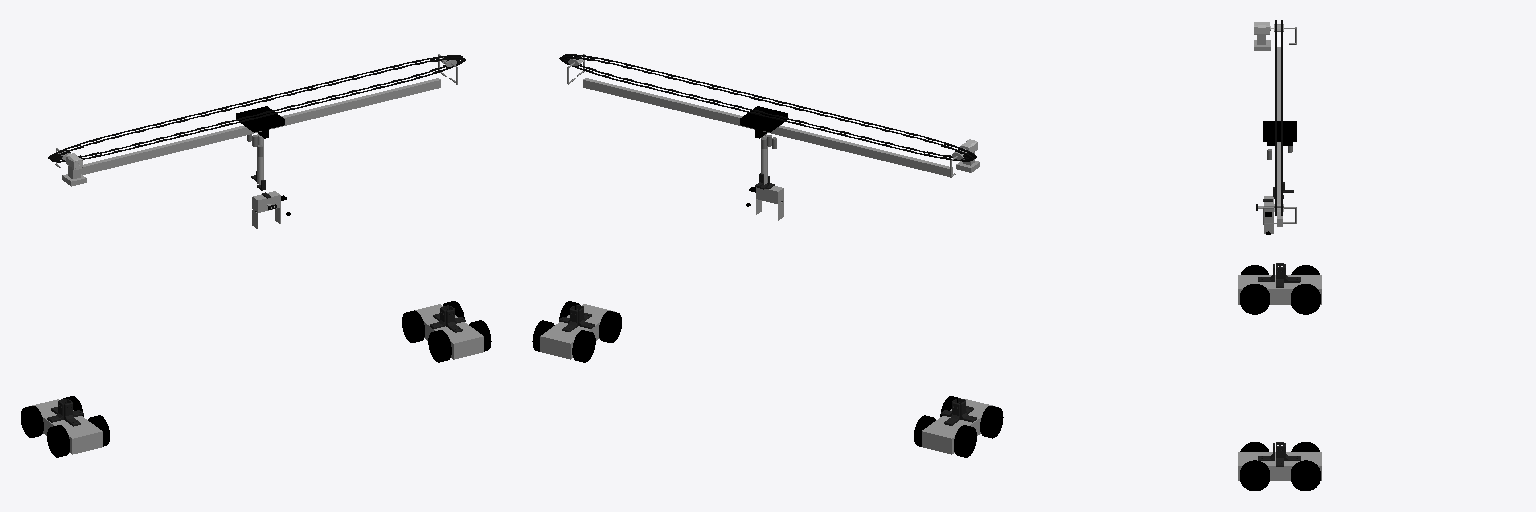
--- Render facts (derived) ---
3 views of the same robot in one strip: view 1: azimuth 30°, elevation 25°; view 2: azimuth 150°, elevation 25°; view 3: azimuth 270°, elevation 25° (orthographic).
Robot: bot — 90 links, 89 joints (1 revolute, 9 continuous, 6 prismatic, 73 fixed); root link Untitled.052; default pose: every joint at zero.
Links seen in each view (by area): view 1: Untitled.052, Untitled.058, Untitled.079, Untitled.004, Untitled.009, Untitled.026, Untitled.017, Untitled.008, Untitled.011, Untitled.007; view 2: Untitled.052, Untitled.079, Untitled.058, Untitled.009, Untitled.004, Untitled.026, Untitled.008, Untitled.011, Untitled.007, Untitled.017; view 3: Untitled.004, Untitled.009, Untitled.015, Untitled.005, Untitled.006, Untitled.013, Untitled.026, Untitled.052.
Link boxes in pixels (<box>): Untitled.052: <box>81,78,440,174</box>; Untitled.058: <box>51,57,465,162</box>; Untitled.079: <box>48,55,462,159</box>; Untitled.004: <box>28,399,102,454</box>; Untitled.009: <box>415,304,483,359</box>; Untitled.026: <box>236,106,284,132</box>; Untitled.017: <box>428,330,451,362</box>; Untitled.008: <box>47,425,69,457</box>; Untitled.011: <box>402,310,424,342</box>; Untitled.007: <box>21,406,43,437</box>; Untitled.052: <box>583,78,952,176</box>; Untitled.079: <box>559,56,973,161</box>; Untitled.058: <box>562,54,976,158</box>; Untitled.009: <box>540,304,614,359</box>; Untitled.004: <box>922,399,995,454</box>; Untitled.026: <box>740,106,787,132</box>; Untitled.008: <box>980,406,1003,438</box>; Untitled.011: <box>572,330,595,362</box>; Untitled.007: <box>954,425,976,457</box>; Untitled.017: <box>599,311,621,342</box>; Untitled.004: <box>1238,275,1321,304</box>; Untitled.009: <box>1238,452,1321,480</box>; Untitled.015: <box>1240,460,1269,490</box>; Untitled.005: <box>1240,284,1269,314</box>; Untitled.006: <box>1291,284,1320,314</box>; Untitled.013: <box>1291,460,1320,490</box>; Untitled.026: <box>1263,121,1296,141</box>; Untitled.052: <box>1277,47,1282,226</box>.
Bounding box of the posed robot: 2.81 × 0.5 × 1.84 m (x, y, z).
Meshes: 22 distinct files referenced, 28 mesh visuals loaded (12 binary STL); not drawn: 10 (reference not matched to a file when rendering).

robot.urdf — bot:
<?xml version="1.0"?>
<!-- created with Phobos 1.0.1 "Capricious Choutengan" -->
  <robot name="bot">

    <link name="Untitled">
      <inertial>
        <origin xyz="0 0 0" rpy="0 0 0"/>
        <mass value="0.001"/>
        <inertia ixx="0.001" ixy="0" ixz="0" iyy="0.001" iyz="0" izz="0.001"/>
      </inertial>
    </link>

    <link name="Untitled.001">
      <inertial>
        <origin xyz="0 0 0" rpy="0 0 0"/>
        <mass value="0.001"/>
        <inertia ixx="0.001" ixy="0" ixz="0" iyy="0.001" iyz="0" izz="0.001"/>
      </inertial>
    </link>

    <link name="Untitled.002">
      <inertial>
        <origin xyz="0 0 0" rpy="0 0 0"/>
        <mass value="0.001"/>
        <inertia ixx="0.001" ixy="0" ixz="0" iyy="0.001" iyz="0" izz="0.001"/>
      </inertial>
    </link>

    <link name="Untitled.003">
      <inertial>
        <origin xyz="0 0 0" rpy="0 0 0"/>
        <mass value="0.001"/>
        <inertia ixx="0.001" ixy="0" ixz="0" iyy="0.001" iyz="0" izz="0.001"/>
      </inertial>
    </link>

    <link name="Untitled.004">
      <inertial>
        <origin xyz="0 0 0" rpy="0 0 0"/>
        <mass value="8.0"/>
        <inertia ixx="0.00043" ixy="0" ixz="0" iyy="0.00145" iyz="0" izz="0.06667"/>
      </inertial>
      <visual name="base link.000">
        <origin xyz="0 0 0" rpy="0 0 0"/>
        <geometry>
          <box size="0.5 0.2 0.1"/>
        </geometry>
        <material name="Material.005"/>
      </visual>
      <collision name="base link.000">
        <origin xyz="0 0 0" rpy="0 0 0"/>
        <geometry>
          <box size="0.4 0.2 0.1"/>
        </geometry>
      </collision>
    </link>

    <link name="Untitled.005">
      <inertial>
        <origin xyz="0 0 0" rpy="0 0 0"/>
        <mass value="0.25"/>
        <inertia ixx="7e-05" ixy="0" ixz="0" iyy="0.00013" iyz="0" izz="0.00056"/>
      </inertial>
      <visual name="bl Link.000">
        <origin xyz="-0.0022 0 0" rpy="-3.14159 0 0"/>
        <geometry>
          <mesh filename="Cylinder.004.stl" scale="1.0 1.0 1.0"/>
        </geometry>
        <material name="Material.004"/>
      </visual>
      <collision name="bl Link.000">
        <origin xyz="-0.0022 0 0" rpy="-3.14159 0 0"/>
        <geometry>
          <cylinder radius="0.09" length="0.05"/>
        </geometry>
      </collision>
    </link>

    <link name="Untitled.006">
      <inertial>
        <origin xyz="0 0 0" rpy="0 0 0"/>
        <mass value="0.25"/>
        <inertia ixx="7e-05" ixy="0" ixz="0" iyy="0.00013" iyz="0" izz="0.00056"/>
      </inertial>
      <visual name="bl Link.002.000">
        <origin xyz="-0.0022 0 0" rpy="-3.14159 0 0"/>
        <geometry>
          <cylinder radius="0.09" length="0.05"/>
        </geometry>
        <material name="Material.001"/>
      </visual>
      <collision name="bl Link.002.000">
        <origin xyz="-0.0022 0 0" rpy="-3.14159 0 0"/>
        <geometry>
          <cylinder radius="0.09" length="0.05"/>
        </geometry>
      </collision>
    </link>

    <link name="Untitled.007">
      <inertial>
        <origin xyz="0 0 0" rpy="0 0 0"/>
        <mass value="0.25"/>
        <inertia ixx="7e-05" ixy="0" ixz="0" iyy="0.00013" iyz="0" izz="0.00056"/>
      </inertial>
      <visual name="bl Link.003.000">
        <origin xyz="-0.0022 0 0" rpy="0 0 0"/>
        <geometry>
          <cylinder radius="0.09" length="0.05"/>
        </geometry>
        <material name="Material.002"/>
      </visual>
      <collision name="bl Link.003.000">
        <origin xyz="-0.0022 0 0" rpy="0 0 0"/>
        <geometry>
          <cylinder radius="0.09" length="0.05"/>
        </geometry>
      </collision>
    </link>

    <link name="Untitled.008">
      <inertial>
        <origin xyz="0 0 0" rpy="0 0 0"/>
        <mass value="0.25"/>
        <inertia ixx="7e-05" ixy="0" ixz="0" iyy="0.00013" iyz="0" izz="0.00056"/>
      </inertial>
      <visual name="bl Link.001.000">
        <origin xyz="-0.0022 0 0" rpy="0 0 0"/>
        <geometry>
          <cylinder radius="0.09" length="0.05"/>
        </geometry>
        <material name="Material.003"/>
      </visual>
      <collision name="bl Link.001.000">
        <origin xyz="-0.0022 0 0" rpy="0 0 0"/>
        <geometry>
          <cylinder radius="0.09" length="0.05"/>
        </geometry>
      </collision>
    </link>

    <link name="Untitled.009">
      <inertial>
        <origin xyz="0 0 0" rpy="0 0 0"/>
        <mass value="8.0"/>
        <inertia ixx="0.00043" ixy="0" ixz="0" iyy="0.00145" iyz="0" izz="0.06667"/>
      </inertial>
      <visual name="base link.001">
        <origin xyz="0 0 0" rpy="0 0 0"/>
        <geometry>
          <box size="0.5 0.2 0.1"/>
        </geometry>
        <material name="Material.005"/>
      </visual>
      <collision name="base link.000">
        <origin xyz="0 0 0" rpy="0 0 0"/>
        <geometry>
          <box size="0.4 0.2 0.1"/>
        </geometry>
      </collision>
    </link>

    <link name="Untitled.010">
      <inertial>
        <origin xyz="0 0 0" rpy="0 0 0"/>
        <mass value="0.001"/>
        <inertia ixx="0.001" ixy="0" ixz="0" iyy="0.001" iyz="0" izz="0.001"/>
      </inertial>
    </link>

    <link name="Untitled.011">
      <inertial>
        <origin xyz="0 0 0" rpy="0 0 0"/>
        <mass value="0.25"/>
        <inertia ixx="7e-05" ixy="0" ixz="0" iyy="0.00013" iyz="0" izz="0.00056"/>
      </inertial>
      <visual name="bl Link.003.001">
        <origin xyz="-0.0022 0 0" rpy="0 0 0"/>
        <geometry>
          <cylinder radius="0.09" length="0.05"/>
        </geometry>
        <material name="Material.002"/>
      </visual>
      <collision name="bl Link.003.000">
        <origin xyz="-0.0022 0 0" rpy="0 0 0"/>
        <geometry>
          <cylinder radius="0.09" length="0.05"/>
        </geometry>
      </collision>
    </link>

    <link name="Untitled.012">
      <inertial>
        <origin xyz="0 0 0" rpy="0 0 0"/>
        <mass value="0.001"/>
        <inertia ixx="0.001" ixy="0" ixz="0" iyy="0.001" iyz="0" izz="0.001"/>
      </inertial>
    </link>

    <link name="Untitled.013">
      <inertial>
        <origin xyz="0 0 0" rpy="0 0 0"/>
        <mass value="0.25"/>
        <inertia ixx="7e-05" ixy="0" ixz="0" iyy="0.00013" iyz="0" izz="0.00056"/>
      </inertial>
      <visual name="bl Link.002.001">
        <origin xyz="-0.0022 0 0" rpy="-3.14159 0 0"/>
        <geometry>
          <cylinder radius="0.09" length="0.05"/>
        </geometry>
        <material name="Material.001"/>
      </visual>
      <collision name="bl Link.002.000">
        <origin xyz="-0.0022 0 0" rpy="-3.14159 0 0"/>
        <geometry>
          <cylinder radius="0.09" length="0.05"/>
        </geometry>
      </collision>
    </link>

    <link name="Untitled.014">
      <inertial>
        <origin xyz="0 0 0" rpy="0 0 0"/>
        <mass value="0.001"/>
        <inertia ixx="0.001" ixy="0" ixz="0" iyy="0.001" iyz="0" izz="0.001"/>
      </inertial>
    </link>

    <link name="Untitled.015">
      <inertial>
        <origin xyz="0 0 0" rpy="0 0 0"/>
        <mass value="0.25"/>
        <inertia ixx="7e-05" ixy="0" ixz="0" iyy="0.00013" iyz="0" izz="0.00056"/>
      </inertial>
      <visual name="bl Link.001">
        <origin xyz="-0.0022 0 0" rpy="-3.14159 0 0"/>
        <geometry>
          <cylinder radius="0.09" length="0.05"/>
        </geometry>
        <material name="Material.004"/>
      </visual>
      <collision name="bl Link.000">
        <origin xyz="-0.0022 0 0" rpy="-3.14159 0 0"/>
        <geometry>
          <cylinder radius="0.09" length="0.05"/>
        </geometry>
      </collision>
    </link>

    <link name="Untitled.016">
      <inertial>
        <origin xyz="0 0 0" rpy="0 0 0"/>
        <mass value="0.001"/>
        <inertia ixx="0.001" ixy="0" ixz="0" iyy="0.001" iyz="0" izz="0.001"/>
      </inertial>
    </link>

    <link name="Untitled.017">
      <inertial>
        <origin xyz="0 0 0" rpy="0 0 0"/>
        <mass value="0.25"/>
        <inertia ixx="7e-05" ixy="0" ixz="0" iyy="0.00013" iyz="0" izz="0.00056"/>
      </inertial>
      <visual name="bl Link.001.001">
        <origin xyz="-0.0022 0 0" rpy="0 0 0"/>
        <geometry>
          <cylinder radius="0.09" length="0.05"/>
        </geometry>
        <material name="Material.003"/>
      </visual>
      <collision name="bl Link.001.000">
        <origin xyz="-0.0022 0 0" rpy="0 0 0"/>
        <geometry>
          <cylinder radius="0.09" length="0.05"/>
        </geometry>
      </collision>
    </link>

    <link name="Untitled.018">
      <inertial>
        <origin xyz="0 0 0" rpy="0 0 0"/>
        <mass value="0.02"/>
        <inertia ixx="2e-05" ixy="0" ixz="0" iyy="2e-05" iyz="0" izz="2e-05"/>
      </inertial>
      <visual name="base link.002">
        <origin xyz="0 0 0" rpy="0 0 0"/>
        <geometry>
          <mesh filename="base link.stl" scale="0.74892 0.75 0.33333"/>
        </geometry>
        <material name="Material.035"/>
      </visual>
      <collision name="base link.002.000">
        <origin xyz="0 0 0" rpy="0 0 0"/>
        <geometry>
          <mesh filename="base link.001.stl" scale="1.5043 1.5 1.0"/>
        </geometry>
      </collision>
    </link>

    <link name="Untitled.019">
      <inertial>
        <origin xyz="0 0 0" rpy="0 0 0"/>
        <mass value="0.01"/>
        <inertia ixx="2e-05" ixy="0" ixz="0" iyy="2e-05" iyz="0" izz="2e-05"/>
      </inertial>
      <visual name="inner Link.003">
        <origin xyz="0 0 0" rpy="0 0 0"/>
        <geometry>
          <mesh filename="inner Link.006.stl" scale="0.59176 0.57692 0.33333"/>
        </geometry>
        <material name="Material.036"/>
      </visual>
      <collision name="inner Link.003.000">
        <origin xyz="0 0 0" rpy="0 0 0"/>
        <geometry>
          <mesh filename="inner Link.007.stl" scale="1.0 1.0 1.0"/>
        </geometry>
      </collision>
    </link>

    <link name="Untitled.020">
      <inertial>
        <origin xyz="0 0 0" rpy="0 0 0"/>
        <mass value="0.001"/>
        <inertia ixx="2e-05" ixy="0" ixz="0" iyy="2e-05" iyz="0" izz="2e-05"/>
      </inertial>
      <visual name="Half Sphere 2">
        <origin xyz="0 0 0" rpy="-1.5708 0 0"/>
        <geometry>
          <mesh filename="Half Sphere 2.002.stl" scale="0.00489 0.00488 0.00488"/>
        </geometry>
        <material name="Material.037"/>
      </visual>
      <collision name="Half Sphere 2.000">
        <origin xyz="-0.001 0 -0.00176" rpy="-1.5708 0 0"/>
        <geometry>
          <mesh filename="Half Sphere 2.003.stl" scale="1.0 1.0 1.0"/>
        </geometry>
      </collision>
    </link>

    <link name="Untitled.021">
      <inertial>
        <origin xyz="0 0 0.01" rpy="0 0 0"/>
        <mass value="0.01"/>
        <inertia ixx="2e-05" ixy="0" ixz="0" iyy="2e-05" iyz="0" izz="2e-05"/>
      </inertial>
      <visual name="Cube.003">
        <origin xyz="0 0 0.01" rpy="0 0 0"/>
        <geometry>
          <box size="0.15 0.03 0.01"/>
        </geometry>
        <material name="Material.009"/>
      </visual>
      <collision name="Cube.003">
        <origin xyz="0 0 0.01" rpy="0 0 0"/>
        <geometry>
          <box size="0.15 0.03 0.01"/>
        </geometry>
      </collision>
    </link>

    <link name="Untitled.022">
      <inertial>
        <origin xyz="0 0 0" rpy="0 0 0"/>
        <mass value="0.05"/>
        <inertia ixx="2e-05" ixy="0" ixz="0" iyy="2e-05" iyz="0" izz="2e-05"/>
      </inertial>
      <visual name="Cube.002">
        <origin xyz="0 0 0" rpy="0 0 0"/>
        <geometry>
          <box size="0.03 0.03 0.06"/>
        </geometry>
        <material name="Material.010"/>
      </visual>
      <collision name="Cube.002">
        <origin xyz="0 0 0" rpy="0 0 0"/>
        <geometry>
          <box size="0.03 0.03 0.06"/>
        </geometry>
      </collision>
    </link>

    <link name="Untitled.023">
      <inertial>
        <origin xyz="0 0 0" rpy="0 0 0"/>
        <mass value="0.05"/>
        <inertia ixx="2e-05" ixy="0" ixz="0" iyy="2e-05" iyz="0" izz="2e-05"/>
      </inertial>
      <visual name="Cube.001">
        <origin xyz="0 0 0" rpy="0 0 0"/>
        <geometry>
          <box size="0.03 0.03 0.06"/>
        </geometry>
        <material name="Material.010"/>
      </visual>
      <collision name="Cube.001">
        <origin xyz="0 0 0" rpy="0 0 0"/>
        <geometry>
          <box size="0.03 0.03 0.06"/>
        </geometry>
      </collision>
    </link>

    <link name="Untitled.024">
      <inertial>
        <origin xyz="0 0 0" rpy="0 0 0"/>
        <mass value="0.001"/>
        <inertia ixx="0.001" ixy="0" ixz="0" iyy="0.001" iyz="0" izz="0.001"/>
      </inertial>
    </link>

    <link name="Untitled.025">
      <inertial>
        <origin xyz="0 0 0" rpy="0 0 0"/>
        <mass value="0.001"/>
        <inertia ixx="0.001" ixy="0" ixz="0" iyy="0.001" iyz="0" izz="0.001"/>
      </inertial>
    </link>

    <link name="Untitled.026">
      <inertial>
        <origin xyz="0 0 0" rpy="0 0 0"/>
        <mass value="0.5"/>
        <inertia ixx="2e-05" ixy="0" ixz="0" iyy="2e-05" iyz="0" izz="2e-05"/>
      </inertial>
      <visual name="Cube">
        <origin xyz="0 0 0" rpy="-1.5708 0 0"/>
        <geometry>
          <box size="0.2 0.2 0.04"/>
        </geometry>
        <material name="Material.008"/>
      </visual>
      <collision name="Cube">
        <origin xyz="0 0 0" rpy="-1.5708 0 0"/>
        <geometry>
          <box size="0.2 0.2 0.04"/>
        </geometry>
      </collision>
    </link>

    <link name="Untitled.027">
      <inertial>
        <origin xyz="0 0 0" rpy="0 0 0"/>
        <mass value="0.5"/>
        <inertia ixx="0.00286" ixy="0" ixz="0" iyy="0.00286" iyz="0" izz="0.0001"/>
      </inertial>
      <visual name="base link">
        <origin xyz="0 0 0" rpy="0 0 0"/>
        <geometry>
          <mesh filename="base link.006.stl" scale="1.0 1.0 1.0"/>
        </geometry>
        <material name="Material.011"/>
      </visual>
      <collision name="base link.000.001.002">
        <origin xyz="0 0.00061 0" rpy="0 0 0"/>
        <geometry>
          <mesh filename="base link.009.stl" scale="1.0 1.0 1.0"/>
        </geometry>
      </collision>
    </link>

    <link name="Untitled.028">
      <inertial>
        <origin xyz="0 0 0.02952" rpy="0 0 0"/>
        <mass value="0.5"/>
        <inertia ixx="0.00377" ixy="0" ixz="0" iyy="0.00377" iyz="0" izz="4e-05"/>
      </inertial>
      <visual name="inner Link">
        <origin xyz="0 0 0.02952" rpy="0 0 0"/>
        <geometry>
          <mesh filename="inner Link.stl" scale="1.0 1.0 1.0"/>
        </geometry>
        <material name="Material.012"/>
      </visual>
      <collision name="inner Link.000">
        <origin xyz="0 0 0.02952" rpy="0 0 0"/>
        <geometry>
          <mesh filename="inner Link.003.stl" scale="1.0 1.0 1.0"/>
        </geometry>
      </collision>
    </link>

    <link name="Untitled.029">
      <inertial>
        <origin xyz="0 0 0" rpy="0 0 0"/>
        <mass value="0.1"/>
        <inertia ixx="2e-05" ixy="0" ixz="0" iyy="2e-05" iyz="0" izz="2e-05"/>
      </inertial>
      <visual name="Cube.004">
        <origin xyz="0 0 0" rpy="0 0 0"/>
        <geometry>
          <box size="0.06 0.026 0.01"/>
        </geometry>
        <material name="Material.013"/>
      </visual>
      <collision name="Cube.004">
        <origin xyz="0 0 0" rpy="0 0 0"/>
        <geometry>
          <box size="0.06 0.026 0.01"/>
        </geometry>
      </collision>
    </link>

    <link name="Untitled.030">
      <inertial>
        <origin xyz="0 0 0" rpy="0 0 0"/>
        <mass value="0.5"/>
        <inertia ixx="0.00286" ixy="0" ixz="0" iyy="0.00286" iyz="0" izz="0.0001"/>
      </inertial>
      <visual name="base link.003">
        <origin xyz="0 0 0" rpy="0 0 0"/>
        <geometry>
          <mesh filename="base link.007.stl" scale="1.0 1.0 1.0"/>
        </geometry>
        <material name="Material.014"/>
      </visual>
      <collision name="base link.003.000">
        <origin xyz="0 0 0" rpy="0 0 0"/>
        <geometry>
          <mesh filename="base link.010.stl" scale="1.0 1.0 1.0"/>
        </geometry>
      </collision>
    </link>

    <link name="Untitled.031">
      <inertial>
        <origin xyz="0 0 0" rpy="0 0 0"/>
        <mass value="0.5"/>
        <inertia ixx="0.00377" ixy="0" ixz="0" iyy="0.00377" iyz="0" izz="4e-05"/>
      </inertial>
      <visual name="inner Link.001">
        <origin xyz="0 0 0" rpy="0 0 0"/>
        <geometry>
          <mesh filename="inner Link.001.stl" scale="1.0 1.0 1.0"/>
        </geometry>
        <material name="Material.015"/>
      </visual>
      <collision name="inner Link.001.000">
        <origin xyz="0 0 0" rpy="0 0 0"/>
        <geometry>
          <mesh filename="inner Link.004.stl" scale="1.0 1.0 1.0"/>
        </geometry>
      </collision>
    </link>

    <link name="Untitled.032">
      <inertial>
        <origin xyz="0 0 0" rpy="0 0 0"/>
        <mass value="0.1"/>
        <inertia ixx="2e-05" ixy="0" ixz="0" iyy="2e-05" iyz="0" izz="2e-05"/>
      </inertial>
      <visual name="Cube.005">
        <origin xyz="0 0 0" rpy="0 0 0"/>
        <geometry>
          <box size="0.06 0.026 0.01"/>
        </geometry>
        <material name="Material.016"/>
      </visual>
      <collision name="Cube.005">
        <origin xyz="0 0 0" rpy="0 0 0"/>
        <geometry>
          <box size="0.06 0.026 0.01"/>
        </geometry>
      </collision>
    </link>

    <link name="Untitled.033">
      <inertial>
        <origin xyz="0 0 0" rpy="0 0 0"/>
        <mass value="0.5"/>
        <inertia ixx="0.00286" ixy="0" ixz="0" iyy="0.00286" iyz="0" izz="0.0001"/>
      </inertial>
      <visual name="base link.004">
        <origin xyz="0 0 0" rpy="0 0 0"/>
        <geometry>
          <mesh filename="base link.008.stl" scale="1.0 1.0 1.0"/>
        </geometry>
        <material name="Material.017"/>
      </visual>
      <collision name="base link.004.000">
        <origin xyz="0 0 0" rpy="0 0 0"/>
        <geometry>
          <mesh filename="base link.011.stl" scale="1.0 1.0 1.0"/>
        </geometry>
      </collision>
    </link>

    <link name="Untitled.034">
      <inertial>
        <origin xyz="0 0 0" rpy="0 0 0"/>
        <mass value="0.5"/>
        <inertia ixx="0.00377" ixy="0" ixz="0" iyy="0.00377" iyz="0" izz="4e-05"/>
      </inertial>
      <visual name="inner Link.002">
        <origin xyz="0 0 0" rpy="0 0 0"/>
        <geometry>
          <mesh filename="inner Link.002.stl" scale="1.0 1.0 1.0"/>
        </geometry>
        <material name="Material.018"/>
      </visual>
      <collision name="inner Link.002.000">
        <origin xyz="0 0 0" rpy="0 0 0"/>
        <geometry>
          <mesh filename="inner Link.005.stl" scale="1.0 1.0 1.0"/>
        </geometry>
      </collision>
    </link>

    <link name="Untitled.035">
      <inertial>
        <origin xyz="0 0 0" rpy="0 0 0"/>
        <mass value="0.1"/>
        <inertia ixx="2e-05" ixy="0" ixz="0" iyy="2e-05" iyz="0" izz="2e-05"/>
      </inertial>
      <visual name="Cube.006">
        <origin xyz="0 0 0" rpy="0 0 0"/>
        <geometry>
          <box size="0.06 0.026 0.01"/>
        </geometry>
        <material name="Material.019"/>
      </visual>
      <collision name="Cube.006">
        <origin xyz="0 0 0" rpy="0 0 0"/>
        <geometry>
          <box size="0.06 0.026 0.01"/>
        </geometry>
      </collision>
    </link>

    <link name="Untitled.036">
      <inertial>
        <origin xyz="0 0 0" rpy="0 0 0"/>
        <mass value="0.3"/>
        <inertia ixx="2e-05" ixy="0" ixz="0" iyy="2e-05" iyz="0" izz="2e-05"/>
      </inertial>
      <visual name="Cube.007">
        <origin xyz="0 0 0" rpy="0 0 0"/>
        <geometry>
          <box size="0.06 0.15 0.08"/>
        </geometry>
        <material name="Material.020"/>
      </visual>
      <collision name="Cube.007">
        <origin xyz="0 0 0" rpy="0 0 0"/>
        <geometry>
          <box size="0.04 0.15 0.08"/>
        </geometry>
      </collision>
    </link>

    <link name="Untitled.037">
      <inertial>
        <origin xyz="0 0 0.01" rpy="0 0 0"/>
        <mass value="0.05"/>
        <inertia ixx="2e-05" ixy="0" ixz="0" iyy="2e-05" iyz="0" izz="2e-05"/>
      </inertial>
      <visual name="Cube.008">
        <origin xyz="0 0 0.01" rpy="-1.5708 0 0"/>
        <geometry>
          <box size="0.06 0.005 0.1"/>
        </geometry>
        <material name="Material.007"/>
      </visual>
      <collision name="Cube.008">
        <origin xyz="0 0 0.01" rpy="-1.5708 0 0"/>
        <geometry>
          <box size="0.04 0.005 0.1"/>
        </geometry>
      </collision>
    </link>

    <link name="Untitled.038">
      <inertial>
        <origin xyz="0 0 0.01" rpy="0 0 0"/>
        <mass value="0.05"/>
        <inertia ixx="2e-05" ixy="0" ixz="0" iyy="2e-05" iyz="0" izz="2e-05"/>
      </inertial>
      <visual name="Cube.009">
        <origin xyz="0 0 0.01" rpy="-1.5708 0 0"/>
        <geometry>
          <box size="0.06 0.005 0.1"/>
        </geometry>
        <material name="Material.007"/>
      </visual>
      <collision name="Cube.009">
        <origin xyz="0 0 0.01" rpy="-1.5708 0 0"/>
        <geometry>
          <box size="0.04 0.005 0.1"/>
        </geometry>
      </collision>
    </link>

    <link name="Untitled.039">
      <inertial>
        <origin xyz="0 0 0" rpy="0 0 0"/>
        <mass value="0.001"/>
        <inertia ixx="0.001" ixy="0" ixz="0" iyy="0.001" iyz="0" izz="0.001"/>
      </inertial>
      <visual name="L bracket.007">
        <origin xyz="0 0 0" rpy="0 0 0"/>
        <geometry>
          <mesh filename="L bracket.stl" scale="0.00186 0.00228 0.00167"/>
        </geometry>
        <material name="Material.051"/>
      </visual>
    </link>

    <link name="Untitled.040">
      <inertial>
        <origin xyz="0 0 0" rpy="0 0 0"/>
        <mass value="0.001"/>
        <inertia ixx="0.001" ixy="0" ixz="0" iyy="0.001" iyz="0" izz="0.001"/>
      </inertial>
      <visual name="L bracket.004">
        <origin xyz="0 0 0" rpy="0 0 0"/>
        <geometry>
          <mesh filename="L bracket.stl" scale="0.00232 0.00228 0.00167"/>
        </geometry>
        <material name="Material.051"/>
      </visual>
    </link>

    <link name="Untitled.041">
      <inertial>
        <origin xyz="0 0 0" rpy="0 0 0"/>
        <mass value="0.005"/>
        <inertia ixx="2e-05" ixy="0" ixz="0" iyy="2e-05" iyz="0" izz="2e-05"/>
      </inertial>
      <visual name="Cube.012.000">
        <origin xyz="0 0 0" rpy="0 0 0"/>
        <geometry>
          <box size="0.06 0.026 0.01"/>
        </geometry>
        <material name="Material.025"/>
      </visual>
      <collision name="Cube.012.000">
        <origin xyz="0 0 0" rpy="0 0 0"/>
        <geometry>
          <box size="0.06 0.026 0.01"/>
        </geometry>
      </collision>
    </link>

    <link name="Untitled.042">
      <inertial>
        <origin xyz="0 0 0.01" rpy="0 0 0"/>
        <mass value="0.005"/>
        <inertia ixx="2e-05" ixy="0" ixz="0" iyy="2e-05" iyz="0" izz="2e-05"/>
      </inertial>
      <visual name="Cube.013">
        <origin xyz="0 0 0.01" rpy="-1.5708 0 -1.5708"/>
        <geometry>
          <box size="0.02 0.05 0.01"/>
        </geometry>
        <material name="Material.026"/>
      </visual>
      <collision name="Cube.013">
        <origin xyz="0 0 0.01" rpy="-1.5708 0 -1.5708"/>
        <geometry>
          <box size="0.02 0.05 0.01"/>
        </geometry>
      </collision>
    </link>

    <link name="Untitled.043">
      <inertial>
        <origin xyz="0 0 0" rpy="0 0 0"/>
        <mass value="0.001"/>
        <inertia ixx="0.001" ixy="0" ixz="0" iyy="0.001" iyz="0" izz="0.001"/>
      </inertial>
      <visual name="Cylinder.001">
        <origin xyz="0 0 0" rpy="0 0 0"/>
        <geometry>
          <cylinder radius="0.005" length="0.01"/>
        </geometry>
        <material name="Material.027"/>
      </visual>
    </link>

    <link name="Untitled.044">
      <inertial>
        <origin xyz="0 0 0" rpy="0 0 0"/>
        <mass value="0.001"/>
        <inertia ixx="0.001" ixy="0" ixz="0" iyy="0.001" iyz="0" izz="0.001"/>
      </inertial>
      <visual name="Cylinder">
        <origin xyz="0 0 0" rpy="0 0 0"/>
        <geometry>
          <cylinder radius="0.005" length="0.01"/>
        </geometry>
        <material name="Material.027"/>
      </visual>
    </link>

    <link name="Untitled.045">
      <inertial>
        <origin xyz="0 0 0" rpy="0 0 0"/>
        <mass value="1.0"/>
        <inertia ixx="2e-05" ixy="0" ixz="0" iyy="1e-05" iyz="0" izz="3e-05"/>
      </inertial>
    </link>

    <link name="Untitled.046">
      <inertial>
        <origin xyz="0 0 0" rpy="0 0 0"/>
        <mass value="1.0"/>
        <inertia ixx="2e-05" ixy="0" ixz="0" iyy="2e-05" iyz="0" izz="2e-05"/>
      </inertial>
    </link>

    <link name="Untitled.047">
      <inertial>
        <origin xyz="0 0 0" rpy="0 0 0"/>
        <mass value="0.01"/>
        <inertia ixx="2e-05" ixy="0" ixz="0" iyy="2e-05" iyz="0" izz="2e-05"/>
      </inertial>
      <visual name="Cube.012">
        <origin xyz="0 0 0" rpy="0 0 0"/>
        <geometry>
          <box size="0.04 0.05 0.01"/>
        </geometry>
        <material name="Material.032"/>
      </visual>
      <collision name="Cube.012">
        <origin xyz="0 0 0" rpy="0 0 0"/>
        <geometry>
          <box size="0.04 0.05 0.01"/>
        </geometry>
      </collision>
    </link>

    <link name="Untitled.048">
      <inertial>
        <origin xyz="0 0 0" rpy="0 0 0"/>
        <mass value="0.001"/>
        <inertia ixx="0.001" ixy="0" ixz="0" iyy="0.001" iyz="0" izz="0.001"/>
      </inertial>
      <visual name="Cube.014">
        <origin xyz="0 0 0" rpy="0 0 0"/>
        <geometry>
          <box size="0.1 0.1 0.03"/>
        </geometry>
        <material name="Material.041"/>
      </visual>
    </link>

    <link name="Untitled.049">
      <inertial>
        <origin xyz="0 0 0" rpy="0 0 0"/>
        <mass value="0.001"/>
        <inertia ixx="0.001" ixy="0" ixz="0" iyy="0.001" iyz="0" izz="0.001"/>
      </inertial>
      <visual name="Cube.015">
        <origin xyz="0 0 0" rpy="0 0 0"/>
        <geometry>
          <box size="0.05 0.05 0.08"/>
        </geometry>
        <material name="Material.042"/>
      </visual>
    </link>

    <link name="Untitled.050">
      <inertial>
        <origin xyz="0 0 -0.74" rpy="0 0 0"/>
        <mass value="4.0"/>
        <inertia ixx="0.54185" ixy="0" ixz="0" iyy="0.54185" iyz="0" izz="0.00176"/>
      </inertial>
      <visual name="vertical rod.001">
        <origin xyz="0 0 -0.74" rpy="1.5708 0 0"/>
        <geometry>
          <mesh filename="vertical rod.001.stl" scale="1.0 1.0 1.0"/>
        </geometry>
        <material name="Material.029"/>
      </visual>
      <collision name="vertical rod.001.000">
        <origin xyz="0 0 -0.74" rpy="1.5708 0 0"/>
        <geometry>
          <mesh filename="vertical rod.002.stl" scale="1.0 1.0 1.0"/>
        </geometry>
      </collision>
    </link>

    <link name="Untitled.051">
      <inertial>
        <origin xyz="0 0 -0.74" rpy="0 0 0"/>
        <mass value="4.0"/>
        <inertia ixx="0.54185" ixy="0" ixz="0" iyy="0.54185" iyz="0" izz="0.00176"/>
      </inertial>
      <visual name="vertical rod">
        <origin xyz="0 0 -0.74" rpy="1.5708 0 0"/>
        <geometry>
          <mesh filename="vertical rod.stl" scale="1.0 1.0 1.0"/>
        </geometry>
        <material name="Material.031"/>
      </visual>
      <collision name="vertical rod.000">
        <origin xyz="0 0 -0.74" rpy="1.5708 0 0"/>
        <geometry>
          <mesh filename="vertical rod.003.stl" scale="1.0 1.0 1.0"/>
        </geometry>
      </collision>
    </link>

    <link name="Untitled.052">
      <inertial>
        <origin xyz="0 0 0" rpy="0 0 0"/>
        <mass value="2.0"/>
        <inertia ixx="1.00174" ixy="0" ixz="0" iyy="0.00057" iyz="0" izz="0.92057"/>
      </inertial>
      <visual name="horizantal rod">
        <origin xyz="0 0 0" rpy="0 0 0"/>
        <geometry>
          <mesh filename="horizantal rod.stl" scale="1.02128 1.0 1.0"/>
        </geometry>
        <material name="Material.030"/>
      </visual>
      <collision name="horizantal rod.000">
        <origin xyz="0 0 0" rpy="0 0 0"/>
        <geometry>
          <mesh filename="horizantal rod.001.stl" scale="1.0 1.0 1.0"/>
        </geometry>
      </collision>
    </link>

    <link name="Untitled.053">
      <inertial>
        <origin xyz="0 0 0" rpy="0 0 0"/>
        <mass value="0.001"/>
        <inertia ixx="0.001" ixy="0" ixz="0" iyy="0.001" iyz="0" izz="0.001"/>
      </inertial>
      <visual name="NEMA 17">
        <origin xyz="0 0 0" rpy="0 0 0"/>
        <geometry>
          <mesh filename="NEMA 17.stl" scale="0.00142 0.00142 0.00221"/>
        </geometry>
        <material name="Material.038"/>
      </visual>
    </link>

    <link name="Untitled.054">
      <inertial>
        <origin xyz="0 0 0" rpy="0 0 0"/>
        <mass value="0.001"/>
        <inertia ixx="0.001" ixy="0" ixz="0" iyy="0.001" iyz="0" izz="0.001"/>
      </inertial>
      <visual name="Pulley T-Mxl-Xl-Htd-Gt2 N-Tooth 20141225-11880-1Y2Kfq6-0">
        <origin xyz="0 0 -0.05" rpy="0 0 0"/>
        <geometry>
          <mesh filename="Pulley T-Mxl-Xl-Htd-Gt2 N-Tooth 20141225-11880-1Y2Kfq6-0.stl" scale="0.00021 0.00037 0.005"/>
        </geometry>
        <material name="Material.039"/>
      </visual>
    </link>

    <link name="Untitled.055">
      <inertial>
        <origin xyz="0 0 0" rpy="0 0 0"/>
        <mass value="0.001"/>
        <inertia ixx="0.001" ixy="0" ixz="0" iyy="0.001" iyz="0" izz="0.001"/>
      </inertial>
      <visual name="Cylinder.004">
        <origin xyz="0 0 0" rpy="0 0 0"/>
        <geometry>
          <cylinder radius="0.005" length="0.08"/>
        </geometry>
        <material name="Material.040"/>
      </visual>
    </link>

    <link name="Untitled.056">
      <inertial>
        <origin xyz="0 0 0" rpy="0 0 0"/>
        <mass value="0.001"/>
        <inertia ixx="0.001" ixy="0" ixz="0" iyy="0.001" iyz="0" izz="0.001"/>
      </inertial>
      <visual name="Cylinder.005">
        <origin xyz="0 0 0" rpy="0 0 0"/>
        <geometry>
          <cylinder radius="0.005" length="0.11"/>
        </geometry>
        <material name="Material.040"/>
      </visual>
    </link>

    <link name="Untitled.057">
      <inertial>
        <origin xyz="0 0 0" rpy="0 0 0"/>
        <mass value="0.001"/>
        <inertia ixx="0.001" ixy="0" ixz="0" iyy="0.001" iyz="0" izz="0.001"/>
      </inertial>
      <visual name="Cylinder.006">
        <origin xyz="0 0 0" rpy="0 0 0"/>
        <geometry>
          <cylinder radius="0.005" length="0.05"/>
        </geometry>
        <material name="Material.040"/>
      </visual>
    </link>

    <link name="Untitled.058">
      <inertial>
        <origin xyz="0 0 0" rpy="0 0 0"/>
        <mass value="0.001"/>
        <inertia ixx="0.001" ixy="0" ixz="0" iyy="0.001" iyz="0" izz="0.001"/>
      </inertial>
      <visual name="Original.001">
        <origin xyz="0 0 0.02231" rpy="0 0 0"/>
        <geometry>
          <mesh filename="Original.stl" scale="0.1462 0.01681 0.00592"/>
        </geometry>
        <material name="Material.006"/>
      </visual>
    </link>

    <link name="Untitled.059">
      <inertial>
        <origin xyz="0 0 0" rpy="0 0 0"/>
        <mass value="0.001"/>
        <inertia ixx="0.001" ixy="0" ixz="0" iyy="0.001" iyz="0" izz="0.001"/>
      </inertial>
      <visual name="Cylinder.012">
        <origin xyz="0 0 0" rpy="0 0 0"/>
        <geometry>
          <cylinder radius="0.005" length="0.08"/>
        </geometry>
        <material name="Material.040"/>
      </visual>
    </link>

    <link name="Untitled.060">
      <inertial>
        <origin xyz="0 0 0" rpy="0 0 0"/>
        <mass value="0.001"/>
        <inertia ixx="0.001" ixy="0" ixz="0" iyy="0.001" iyz="0" izz="0.001"/>
      </inertial>
      <visual name="Cylinder.010">
        <origin xyz="0 0 0" rpy="0 0 0"/>
        <geometry>
          <cylinder radius="0.005" length="0.11"/>
        </geometry>
        <material name="Material.040"/>
      </visual>
    </link>

    <link name="Untitled.061">
      <inertial>
        <origin xyz="0 0 0" rpy="0 0 0"/>
        <mass value="0.001"/>
        <inertia ixx="0.001" ixy="0" ixz="0" iyy="0.001" iyz="0" izz="0.001"/>
      </inertial>
      <visual name="Cylinder.009">
        <origin xyz="0 0 0" rpy="0 0 0"/>
        <geometry>
          <cylinder radius="0.005" length="0.08"/>
        </geometry>
        <material name="Material.040"/>
      </visual>
      <visual name="Pulley T-Mxl-Xl-Htd-Gt2 N-Tooth 20141225-11880-1Y2Kfq6-0.001">
        <origin xyz="0 0 0.0194" rpy="0 -3.14159 0"/>
        <geometry>
          <mesh filename="Pulley T-Mxl-Xl-Htd-Gt2 N-Tooth 20141225-11880-1Y2Kfq6-0.stl" scale="0.00021 0.00037 0.005"/>
        </geometry>
        <material name="Material.039"/>
      </visual>
    </link>

    <link name="Untitled.062">
      <inertial>
        <origin xyz="0 0 0" rpy="0 0 0"/>
        <mass value="0.001"/>
        <inertia ixx="0.001" ixy="0" ixz="0" iyy="0.001" iyz="0" izz="0.001"/>
      </inertial>
    </link>

    <link name="Untitled.063">
      <inertial>
        <origin xyz="0 0 0" rpy="0 0 0"/>
        <mass value="0.001"/>
        <inertia ixx="0.001" ixy="0" ixz="0" iyy="0.001" iyz="0" izz="0.001"/>
      </inertial>
      <visual name="Cylinder.008">
        <origin xyz="0 0 0" rpy="0 0 0"/>
        <geometry>
          <cylinder radius="0.005" length="0.08"/>
        </geometry>
        <material name="Material.040"/>
      </visual>
    </link>

    <link name="Untitled.064">
      <inertial>
        <origin xyz="0 0 0" rpy="0 0 0"/>
        <mass value="0.001"/>
        <inertia ixx="0.001" ixy="0" ixz="0" iyy="0.001" iyz="0" izz="0.001"/>
      </inertial>
      <visual name="Cylinder.007">
        <origin xyz="0 0 0" rpy="0 0 0"/>
        <geometry>
          <cylinder radius="0.005" length="0.11"/>
        </geometry>
        <material name="Material.040"/>
      </visual>
    </link>

    <link name="Untitled.065">
      <inertial>
        <origin xyz="0 0 0" rpy="0 0 0"/>
        <mass value="0.001"/>
        <inertia ixx="0.001" ixy="0" ixz="0" iyy="0.001" iyz="0" izz="0.001"/>
      </inertial>
      <visual name="Cylinder.011">
        <origin xyz="0 0 0" rpy="0 0 0"/>
        <geometry>
          <cylinder radius="0.005" length="0.08"/>
        </geometry>
        <material name="Material.040"/>
      </visual>
    </link>

    <link name="Untitled.073">
      <inertial>
        <origin xyz="0 0 0" rpy="0 0 0"/>
        <mass value="0.001"/>
        <inertia ixx="0.001" ixy="0" ixz="0" iyy="0.001" iyz="0" izz="0.001"/>
      </inertial>
      <visual name="L bracket.005">
        <origin xyz="0 0 0" rpy="0 0 0"/>
        <geometry>
          <mesh filename="L bracket.stl" scale="0.00186 0.00228 0.00167"/>
        </geometry>
        <material name="Material.051"/>
      </visual>
    </link>

    <link name="Untitled.074">
      <inertial>
        <origin xyz="0 0 0" rpy="0 0 0"/>
        <mass value="0.001"/>
        <inertia ixx="0.001" ixy="0" ixz="0" iyy="0.001" iyz="0" izz="0.001"/>
      </inertial>
      <visual name="L bracket.006">
        <origin xyz="0 0 0" rpy="0 0 0"/>
        <geometry>
          <mesh filename="L bracket.stl" scale="0.00232 0.00228 0.00167"/>
        </geometry>
        <material name="Material.051"/>
      </visual>
    </link>

    <link name="Untitled.075">
      <inertial>
        <origin xyz="0 0 0" rpy="0 0 0"/>
        <mass value="0.001"/>
        <inertia ixx="0.001" ixy="0" ixz="0" iyy="0.001" iyz="0" izz="0.001"/>
      </inertial>
      <visual name="L bracket.001">
        <origin xyz="0 0 0" rpy="0 0 0"/>
        <geometry>
          <mesh filename="L bracket.stl" scale="0.00186 0.00228 0.00167"/>
        </geometry>
        <material name="Material.051"/>
      </visual>
    </link>

    <link name="Untitled.076">
      <inertial>
        <origin xyz="0 0 0" rpy="0 0 0"/>
        <mass value="0.001"/>
        <inertia ixx="0.001" ixy="0" ixz="0" iyy="0.001" iyz="0" izz="0.001"/>
      </inertial>
      <visual name="L bracket.002">
        <origin xyz="0 0 0" rpy="0 0 0"/>
        <geometry>
          <mesh filename="L bracket.stl" scale="0.00232 0.00228 0.00167"/>
        </geometry>
        <material name="Material.051"/>
      </visual>
    </link>

    <link name="Untitled.077">
      <inertial>
        <origin xyz="0 0 0" rpy="0 0 0"/>
        <mass value="0.001"/>
        <inertia ixx="0.001" ixy="0" ixz="0" iyy="0.001" iyz="0" izz="0.001"/>
      </inertial>
      <visual name="L bracket.003">
        <origin xyz="0 0 0" rpy="0 0 0"/>
        <geometry>
          <mesh filename="L bracket.stl" scale="0.00186 0.00228 0.00167"/>
        </geometry>
        <material name="Material.051"/>
      </visual>
    </link>

    <link name="Untitled.078">
      <inertial>
        <origin xyz="0 0 0" rpy="0 0 0"/>
        <mass value="0.001"/>
        <inertia ixx="0.001" ixy="0" ixz="0" iyy="0.001" iyz="0" izz="0.001"/>
      </inertial>
      <visual name="L bracket">
        <origin xyz="0 0 0" rpy="0 0 0"/>
        <geometry>
          <mesh filename="L bracket.stl" scale="0.00232 0.00228 0.00167"/>
        </geometry>
        <material name="Material.051"/>
      </visual>
    </link>

    <link name="Untitled.079">
      <inertial>
        <origin xyz="0 0 0" rpy="0 0 0"/>
        <mass value="0.001"/>
        <inertia ixx="0.001" ixy="0" ixz="0" iyy="0.001" iyz="0" izz="0.001"/>
      </inertial>
      <visual name="Original">
        <origin xyz="0 0 0" rpy="0 0 0"/>
        <geometry>
          <mesh filename="Original.stl" scale="0.1462 0.01681 0.00592"/>
        </geometry>
        <material name="Material.006"/>
      </visual>
    </link>

    <link name="Untitled.080">
      <inertial>
        <origin xyz="0 0 0" rpy="0 0 0"/>
        <mass value="0.001"/>
        <inertia ixx="0.001" ixy="0" ixz="0" iyy="0.001" iyz="0" izz="0.001"/>
      </inertial>
      <visual name="Cube.010">
        <origin xyz="0 0 0" rpy="0 0 0"/>
        <geometry>
          <box size="0.01 0.026 0.05"/>
        </geometry>
        <material name="Material.033"/>
      </visual>
    </link>

    <link name="Untitled.081">
      <inertial>
        <origin xyz="0 0 0" rpy="0 0 0"/>
        <mass value="0.001"/>
        <inertia ixx="0.001" ixy="0" ixz="0" iyy="0.001" iyz="0" izz="0.001"/>
      </inertial>
      <visual name="Cube.011">
        <origin xyz="0 0 0" rpy="0 0 0"/>
        <geometry>
          <box size="0.01 0.026 0.05"/>
        </geometry>
        <material name="Material.033"/>
      </visual>
    </link>

    <link name="Untitled.082">
      <inertial>
        <origin xyz="0 0 0" rpy="0 0 0"/>
        <mass value="0.001"/>
        <inertia ixx="0.001" ixy="0" ixz="0" iyy="0.001" iyz="0" izz="0.001"/>
      </inertial>
      <visual name="Cylinder.002">
        <origin xyz="0 0 0" rpy="0 0 0"/>
        <geometry>
          <cylinder radius="0.015" length="0.06"/>
        </geometry>
        <material name="Material.034"/>
      </visual>
    </link>

    <link name="Untitled.083">
      <inertial>
        <origin xyz="0 0 0" rpy="0 0 0"/>
        <mass value="0.001"/>
        <inertia ixx="0.001" ixy="0" ixz="0" iyy="0.001" iyz="0" izz="0.001"/>
      </inertial>
      <visual name="Cylinder.003">
        <origin xyz="0 0 0" rpy="0 0 0"/>
        <geometry>
          <cylinder radius="0.015" length="0.06"/>
        </geometry>
        <material name="Material.034"/>
      </visual>
    </link>

    <link name="Untitled.084">
      <inertial>
        <origin xyz="0 0 0" rpy="0 0 0"/>
        <mass value="0.001"/>
        <inertia ixx="0.001" ixy="0" ixz="0" iyy="0.001" iyz="0" izz="0.001"/>
      </inertial>
      <visual name="Cylinder.013">
        <origin xyz="0 0 0" rpy="0 0 0"/>
        <geometry>
          <cylinder radius="0.015" length="0.06"/>
        </geometry>
        <material name="Material.034"/>
      </visual>
    </link>

    <link name="Untitled.085">
      <inertial>
        <origin xyz="0 0 0" rpy="0 0 0"/>
        <mass value="0.001"/>
        <inertia ixx="0.001" ixy="0" ixz="0" iyy="0.001" iyz="0" izz="0.001"/>
      </inertial>
      <visual name="DC Motor.003">
        <origin xyz="0 0 0" rpy="0 0 0"/>
        <geometry>
          <mesh filename="DC Motor.stl" scale="0.00227 0.00227 0.00133"/>
        </geometry>
        <material name="Material.052"/>
      </visual>
    </link>

    <link name="Untitled.086">
      <inertial>
        <origin xyz="0 0 0" rpy="0 0 0"/>
        <mass value="0.001"/>
        <inertia ixx="0.001" ixy="0" ixz="0" iyy="0.001" iyz="0" izz="0.001"/>
      </inertial>
      <visual name="DC Motor">
        <origin xyz="0 0 0" rpy="0 0 0"/>
        <geometry>
          <mesh filename="DC Motor.stl" scale="0.00227 0.00227 0.00133"/>
        </geometry>
        <material name="Material.052"/>
      </visual>
    </link>

    <link name="Untitled.087">
      <inertial>
        <origin xyz="0 0 0" rpy="0 0 0"/>
        <mass value="0.001"/>
        <inertia ixx="0.001" ixy="0" ixz="0" iyy="0.001" iyz="0" izz="0.001"/>
      </inertial>
      <visual name="DC Motor.001">
        <origin xyz="0 0 0" rpy="0 0 0"/>
        <geometry>
          <mesh filename="DC Motor.stl" scale="0.00227 0.00227 0.00133"/>
        </geometry>
        <material name="Material.052"/>
      </visual>
    </link>

    <link name="Untitled.088">
      <inertial>
        <origin xyz="0 0 0" rpy="0 0 0"/>
        <mass value="0.001"/>
        <inertia ixx="0.001" ixy="0" ixz="0" iyy="0.001" iyz="0" izz="0.001"/>
      </inertial>
      <visual name="DC Motor.002">
        <origin xyz="0 0 0" rpy="0 0 0"/>
        <geometry>
          <mesh filename="DC Motor.stl" scale="0.00227 0.00227 0.00133"/>
        </geometry>
        <material name="Material.052"/>
      </visual>
    </link>

    <link name="Untitled.089">
      <inertial>
        <origin xyz="0 0 0" rpy="0 0 0"/>
        <mass value="0.001"/>
        <inertia ixx="0.001" ixy="0" ixz="0" iyy="0.001" iyz="0" izz="0.001"/>
      </inertial>
      <visual name="DC Motor.007">
        <origin xyz="0 0 0" rpy="0 0 0"/>
        <geometry>
          <mesh filename="DC Motor.stl" scale="0.00227 0.00227 0.00133"/>
        </geometry>
        <material name="Material.052"/>
      </visual>
    </link>

    <link name="Untitled.090">
      <inertial>
        <origin xyz="0 0 0" rpy="0 0 0"/>
        <mass value="0.001"/>
        <inertia ixx="0.001" ixy="0" ixz="0" iyy="0.001" iyz="0" izz="0.001"/>
      </inertial>
      <visual name="DC Motor.004">
        <origin xyz="0 0 0" rpy="0 0 0"/>
        <geometry>
          <mesh filename="DC Motor.stl" scale="0.00227 0.00227 0.00133"/>
        </geometry>
        <material name="Material.052"/>
      </visual>
    </link>

    <link name="Untitled.091">
      <inertial>
        <origin xyz="0 0 0" rpy="0 0 0"/>
        <mass value="0.001"/>
        <inertia ixx="0.001" ixy="0" ixz="0" iyy="0.001" iyz="0" izz="0.001"/>
      </inertial>
      <visual name="DC Motor.005">
        <origin xyz="0 0 0" rpy="0 0 0"/>
        <geometry>
          <mesh filename="DC Motor.stl" scale="0.00227 0.00227 0.00133"/>
        </geometry>
        <material name="Material.052"/>
      </visual>
    </link>

    <link name="Untitled.092">
      <inertial>
        <origin xyz="0 0 0" rpy="0 0 0"/>
        <mass value="0.001"/>
        <inertia ixx="0.001" ixy="0" ixz="0" iyy="0.001" iyz="0" izz="0.001"/>
      </inertial>
      <visual name="DC Motor.006">
        <origin xyz="0 0 0" rpy="0 0 0"/>
        <geometry>
          <mesh filename="DC Motor.stl" scale="0.00227 0.00227 0.00133"/>
        </geometry>
        <material name="Material.052"/>
      </visual>
    </link>

    <link name="Untitled.093">
      <inertial>
        <origin xyz="0 0 0" rpy="0 0 0"/>
        <mass value="0.001"/>
        <inertia ixx="0.001" ixy="0" ixz="0" iyy="0.001" iyz="0" izz="0.001"/>
      </inertial>
      <visual name="NEMA 17.001">
        <origin xyz="0 0 0" rpy="0 0 0"/>
        <geometry>
          <mesh filename="NEMA 17.001.stl" scale="0.00099 0.00099 0.00059"/>
        </geometry>
        <material name="Material.048"/>
      </visual>
    </link>

    <link name="Untitled.094">
      <inertial>
        <origin xyz="0 0 0" rpy="0 0 0"/>
        <mass value="0.001"/>
        <inertia ixx="0.001" ixy="0" ixz="0" iyy="0.001" iyz="0" izz="0.001"/>
      </inertial>
      <visual name="NEMA 17.002">
        <origin xyz="0 0 0" rpy="0 0 0"/>
        <geometry>
          <mesh filename="NEMA 17.002.stl" scale="0.00099 0.00099 0.00059"/>
        </geometry>
        <material name="Material.049"/>
      </visual>
    </link>

    <link name="Untitled.095">
      <inertial>
        <origin xyz="0 0 0" rpy="0 0 0"/>
        <mass value="0.001"/>
        <inertia ixx="0.001" ixy="0" ixz="0" iyy="0.001" iyz="0" izz="0.001"/>
      </inertial>
      <visual name="16gear">
        <origin xyz="0 0 0" rpy="0 0 0"/>
        <geometry>
          <mesh filename="16gear.stl" scale="0.00053 0.00053 0.001"/>
        </geometry>
      </visual>
    </link>

    <link name="Untitled.096">
      <inertial>
        <origin xyz="0 0 0" rpy="0 0 0"/>
        <mass value="0.001"/>
        <inertia ixx="0.001" ixy="0" ixz="0" iyy="0.001" iyz="0" izz="0.001"/>
      </inertial>
      <visual name="rack">
        <origin xyz="-0.15 0 0" rpy="0 0 0"/>
        <geometry>
          <mesh filename="rack.stl" scale="0.00089 0.00136 0.004"/>
        </geometry>
        <material name="Material.050"/>
      </visual>
    </link>

    <joint name="Untitled" type="fixed">
      <origin xyz="-0.11 0.06 0" rpy="1.5708 0 0"/>
      <parent link="Untitled.004"/>
      <child link="Untitled"/>
    </joint>

    <joint name="Untitled.001" type="fixed">
      <origin xyz="-0.11 -0.06 0" rpy="-1.5708 0 0"/>
      <parent link="Untitled.004"/>
      <child link="Untitled.001"/>
    </joint>

    <joint name="Untitled.002" type="fixed">
      <origin xyz="0.11 0.06 0" rpy="1.5708 0 0"/>
      <parent link="Untitled.004"/>
      <child link="Untitled.002"/>
    </joint>

    <joint name="Untitled.003" type="fixed">
      <origin xyz="0.11 -0.06 0" rpy="-1.5708 0 0"/>
      <parent link="Untitled.004"/>
      <child link="Untitled.003"/>
    </joint>

    <joint name="Untitled.004" type="fixed">
      <origin xyz="0 0 -1.575" rpy="0 0 0"/>
      <parent link="Untitled.051"/>
      <child link="Untitled.004"/>
    </joint>

    <joint name="Untitled.005" type="continuous">
      <origin xyz="0.04 0 -0.07" rpy="3.14159 0 0"/>
      <parent link="Untitled.002"/>
      <child link="Untitled.005"/>
      <axis xyz="0 0 1.0"/>
      <limit effort="0.1" velocity="1.5"/>
    </joint>

    <joint name="Untitled.006" type="continuous">
      <origin xyz="-0.04 0 -0.07" rpy="3.14159 0 0"/>
      <parent link="Untitled"/>
      <child link="Untitled.006"/>
      <axis xyz="0 0 1.0"/>
      <limit effort="0.1" velocity="1.5"/>
    </joint>

    <joint name="Untitled.007" type="continuous">
      <origin xyz="-0.04 0 -0.07" rpy="-3.14159 0 0"/>
      <parent link="Untitled.001"/>
      <child link="Untitled.007"/>
      <axis xyz="0 0 1.0"/>
      <limit effort="0.1" velocity="1.5"/>
    </joint>

    <joint name="Untitled.008" type="continuous">
      <origin xyz="0.04 0 -0.07" rpy="-3.14159 0 0"/>
      <parent link="Untitled.003"/>
      <child link="Untitled.008"/>
      <axis xyz="0 0 1.0"/>
      <limit effort="0.1" velocity="1.5"/>
    </joint>

    <joint name="Untitled.009" type="fixed">
      <origin xyz="0 -0.005 -1.5626" rpy="0 0 0"/>
      <parent link="Untitled.050"/>
      <child link="Untitled.009"/>
    </joint>

    <joint name="Untitled.010" type="fixed">
      <origin xyz="-0.11 -0.06 0" rpy="-1.5708 0 0"/>
      <parent link="Untitled.009"/>
      <child link="Untitled.010"/>
    </joint>

    <joint name="Untitled.011" type="continuous">
      <origin xyz="-0.04 0 -0.07" rpy="-3.14159 0 0"/>
      <parent link="Untitled.010"/>
      <child link="Untitled.011"/>
      <axis xyz="0 0 1.0"/>
      <limit effort="0.1" velocity="1.5"/>
    </joint>

    <joint name="Untitled.012" type="fixed">
      <origin xyz="-0.11 0.06 0" rpy="1.5708 0 0"/>
      <parent link="Untitled.009"/>
      <child link="Untitled.012"/>
    </joint>

    <joint name="Untitled.013" type="continuous">
      <origin xyz="-0.04 0 -0.07" rpy="3.14159 0 0"/>
      <parent link="Untitled.012"/>
      <child link="Untitled.013"/>
      <axis xyz="0 0 1.0"/>
      <limit effort="0.1" velocity="1.5"/>
    </joint>

    <joint name="Untitled.014" type="fixed">
      <origin xyz="0.11 0.06 0" rpy="1.5708 0 0"/>
      <parent link="Untitled.009"/>
      <child link="Untitled.014"/>
    </joint>

    <joint name="Untitled.015" type="continuous">
      <origin xyz="0.04 0 -0.07" rpy="3.14159 0 0"/>
      <parent link="Untitled.014"/>
      <child link="Untitled.015"/>
      <axis xyz="0 0 1.0"/>
      <limit effort="0.1" velocity="1.5"/>
    </joint>

    <joint name="Untitled.016" type="fixed">
      <origin xyz="0.11 -0.06 0" rpy="-1.5708 0 0"/>
      <parent link="Untitled.009"/>
      <child link="Untitled.016"/>
    </joint>

    <joint name="Untitled.017" type="continuous">
      <origin xyz="0.04 0 -0.07" rpy="-3.14159 0 0"/>
      <parent link="Untitled.016"/>
      <child link="Untitled.017"/>
      <axis xyz="0 0 1.0"/>
      <limit effort="0.1" velocity="1.5"/>
    </joint>

    <joint name="Untitled.018" type="fixed">
      <origin xyz="0 0.04 -0.04" rpy="0 0 0"/>
      <parent link="Untitled.047"/>
      <child link="Untitled.018"/>
    </joint>

    <joint name="Untitled.019" type="prismatic">
      <origin xyz="0 0 -0.01039" rpy="0 0 0"/>
      <parent link="Untitled.018"/>
      <child link="Untitled.019"/>
      <axis xyz="0 0 1.0"/>
      <limit lower="-1.6" upper="1.6" effort="0.01" velocity="0.1"/>
    </joint>

    <joint name="Untitled.020" type="fixed">
      <origin xyz="0 -0.00117 -0.05884" rpy="0 0 0"/>
      <parent link="Untitled.019"/>
      <child link="Untitled.020"/>
    </joint>

    <joint name="Untitled.021" type="fixed">
      <origin xyz="0.06656 -0.00819 -0.00718" rpy="0 0 0"/>
      <parent link="Untitled.024"/>
      <child link="Untitled.021"/>
    </joint>

    <joint name="Untitled.022" type="fixed">
      <origin xyz="-0.06 -0.05371 0" rpy="-1.5708 0 0"/>
      <parent link="Untitled.026"/>
      <child link="Untitled.022"/>
    </joint>

    <joint name="Untitled.023" type="fixed">
      <origin xyz="0.06 -0.05371 0" rpy="-1.5708 0 0"/>
      <parent link="Untitled.026"/>
      <child link="Untitled.023"/>
    </joint>

    <joint name="Untitled.024" type="fixed">
      <origin xyz="-0.00656 0.00819 -0.03142" rpy="0 0 0"/>
      <parent link="Untitled.022"/>
      <child link="Untitled.024"/>
    </joint>

    <joint name="Untitled.025" type="fixed">
      <origin xyz="0.00237 -0.00899 -0.03609" rpy="0 0 0"/>
      <parent link="Untitled.023"/>
      <child link="Untitled.025"/>
    </joint>

    <joint name="Untitled.026" type="prismatic">
      <origin xyz="0.025 0 0.04555" rpy="1.5708 0 -1.5708"/>
      <parent link="Untitled.052"/>
      <child link="Untitled.026"/>
      <axis xyz="0 0 1.0"/>
      <limit lower="-1.2931" upper="1.29" effort="0.1" velocity="1.0"/>
    </joint>

    <joint name="Untitled.027" type="fixed">
      <origin xyz="0.00656 -0.00819 -0.15126" rpy="0 0 0"/>
      <parent link="Untitled.024"/>
      <child link="Untitled.027"/>
    </joint>

    <joint name="Untitled.028" type="prismatic">
      <origin xyz="0 0 -0.02468" rpy="0 0 0"/>
      <parent link="Untitled.027"/>
      <child link="Untitled.028"/>
      <axis xyz="0 0 1.0"/>
      <limit lower="-1.2931" upper="1.29" effort="0.1" velocity="1.0"/>
    </joint>

    <joint name="Untitled.029" type="fixed">
      <origin xyz="0.01 0 -0.12848" rpy="0 0 0"/>
      <parent link="Untitled.028"/>
      <child link="Untitled.029"/>
    </joint>

    <joint name="Untitled.030" type="fixed">
      <origin xyz="0.05 0 0.14075" rpy="0 0 0"/>
      <parent link="Untitled.029"/>
      <child link="Untitled.030"/>
    </joint>

    <joint name="Untitled.031" type="prismatic">
      <origin xyz="0 0 -0.02247" rpy="0 0 0"/>
      <parent link="Untitled.030"/>
      <child link="Untitled.031"/>
      <axis xyz="0 0 1.0"/>
      <limit lower="-1.2931" upper="1.29" effort="0.1" velocity="1.0"/>
    </joint>

    <joint name="Untitled.032" type="fixed">
      <origin xyz="0.00738 0.0014 -0.1528" rpy="0 0 0"/>
      <parent link="Untitled.031"/>
      <child link="Untitled.032"/>
    </joint>

    <joint name="Untitled.033" type="fixed">
      <origin xyz="0.05262 -0.0014 0.13993" rpy="0 0 0"/>
      <parent link="Untitled.032"/>
      <child link="Untitled.033"/>
    </joint>

    <joint name="Untitled.034" type="prismatic">
      <origin xyz="0 0 -0.01" rpy="0 0 0"/>
      <parent link="Untitled.033"/>
      <child link="Untitled.034"/>
      <axis xyz="0 0 1.0"/>
      <limit lower="-1.2931" upper="1.29" effort="0.1" velocity="1.0"/>
    </joint>

    <joint name="Untitled.035" type="fixed">
      <origin xyz="0.00989 -0.00047 -0.15397" rpy="0 0 0"/>
      <parent link="Untitled.034"/>
      <child link="Untitled.035"/>
    </joint>

    <joint name="Untitled.036" type="continuous">
      <origin xyz="-0.00332 0.00214 -0.04292" rpy="0 0 0"/>
      <parent link="Untitled.035"/>
      <child link="Untitled.036"/>
      <axis xyz="0 0 1.0"/>
      <limit effort="0.1" velocity="1.0"/>
    </joint>

    <joint name="Untitled.037" type="fixed">
      <origin xyz="0 -0.0625 -0.09126" rpy="1.5708 0 0"/>
      <parent link="Untitled.036"/>
      <child link="Untitled.037"/>
    </joint>

    <joint name="Untitled.038" type="prismatic">
      <origin xyz="0 0.0825 -0.09126" rpy="1.5708 0 0"/>
      <parent link="Untitled.036"/>
      <child link="Untitled.038"/>
      <axis xyz="0 0 1.0"/>
      <limit lower="-1.6" upper="1.6" effort="0.1" velocity="0.05"/>
    </joint>

    <joint name="Untitled.039" type="fixed">
      <origin xyz="-0.025 0.03 0.0476" rpy="1.5708 0 1.5708"/>
      <parent link="Untitled.009"/>
      <child link="Untitled.039"/>
    </joint>

    <joint name="Untitled.040" type="fixed">
      <origin xyz="-0.025 -0.02 0.0476" rpy="1.5708 0 -3.14159"/>
      <parent link="Untitled.009"/>
      <child link="Untitled.040"/>
    </joint>

    <joint name="Untitled.041" type="fixed">
      <origin xyz="0.04032 -0.00214 -0.00337" rpy="0 0 0"/>
      <parent link="Untitled.036"/>
      <child link="Untitled.041"/>
    </joint>

    <joint name="Untitled.042" type="revolute">
      <origin xyz="0.03 0.01 0.00027" rpy="1.5708 0 0"/>
      <parent link="Untitled.041"/>
      <child link="Untitled.042"/>
      <axis xyz="0 0 1.0"/>
      <limit lower="-1.57" upper="0" effort="0.01" velocity="0.1"/>
    </joint>

    <joint name="Untitled.043" type="fixed">
      <origin xyz="0.002 0 0.02" rpy="-1.5708 0 -1.5708"/>
      <parent link="Untitled.042"/>
      <child link="Untitled.043"/>
    </joint>

    <joint name="Untitled.044" type="fixed">
      <origin xyz="0.002 0 0" rpy="-1.5708 0 -1.5708"/>
      <parent link="Untitled.042"/>
      <child link="Untitled.044"/>
    </joint>

    <joint name="Untitled.045" type="fixed">
      <origin xyz="0 0.005 0.1376" rpy="0 0 0"/>
      <parent link="Untitled.009"/>
      <child link="Untitled.045"/>
    </joint>

    <joint name="Untitled.046" type="fixed">
      <origin xyz="0 0 0.15" rpy="0 0 0"/>
      <parent link="Untitled.004"/>
      <child link="Untitled.046"/>
    </joint>

    <joint name="Untitled.047" type="fixed">
      <origin xyz="0 0.1 0" rpy="0 0 0"/>
      <parent link="Untitled.036"/>
      <child link="Untitled.047"/>
    </joint>

    <joint name="Untitled.048" type="fixed">
      <origin xyz="0.10388 -0.0011 0.01673" rpy="0 0 0"/>
      <parent link="Untitled.051"/>
      <child link="Untitled.048"/>
    </joint>

    <joint name="Untitled.049" type="fixed">
      <origin xyz="0.00415 -0.00265 0.05003" rpy="0 0 0"/>
      <parent link="Untitled.048"/>
      <child link="Untitled.049"/>
    </joint>

    <joint name="Untitled.050" type="fixed">
      <origin xyz="1.25 0 -0.005" rpy="0 0 -1.5708"/>
      <parent link="Untitled.052"/>
      <child link="Untitled.050"/>
    </joint>

    <joint name="Untitled.051" type="fixed">
      <origin xyz="-1.25 0 -0.005" rpy="0 0 -1.5708"/>
      <parent link="Untitled.052"/>
      <child link="Untitled.051"/>
    </joint>

    <joint name="Untitled.053" type="fixed">
      <origin xyz="-0.02833 0 0.05969" rpy="0 -1.5708 0"/>
      <parent link="Untitled.049"/>
      <child link="Untitled.053"/>
    </joint>

    <joint name="Untitled.054" type="fixed">
      <origin xyz="0 0 0.055" rpy="0 0 0"/>
      <parent link="Untitled.053"/>
      <child link="Untitled.054"/>
    </joint>

    <joint name="Untitled.055" type="fixed">
      <origin xyz="0 0 0.08" rpy="0 3.14159 0"/>
      <parent link="Untitled.054"/>
      <child link="Untitled.055"/>
    </joint>

    <joint name="Untitled.056" type="fixed">
      <origin xyz="0.05 0 -0.04" rpy="0 -1.5708 0"/>
      <parent link="Untitled.055"/>
      <child link="Untitled.056"/>
    </joint>

    <joint name="Untitled.057" type="fixed">
      <origin xyz="0.02 0 -0.05" rpy="0 1.5708 0"/>
      <parent link="Untitled.056"/>
      <child link="Untitled.057"/>
    </joint>

    <joint name="Untitled.058" type="fixed">
      <origin xyz="-0.00145 1.25375 0.0247" rpy="3.14159 0 1.5708"/>
      <parent link="Untitled.054"/>
      <child link="Untitled.058"/>
    </joint>

    <joint name="Untitled.059" type="fixed">
      <origin xyz="0.0553 0.00625 0.02708" rpy="0 1.5708 0"/>
      <parent link="Untitled.050"/>
      <child link="Untitled.059"/>
    </joint>

    <joint name="Untitled.060" type="fixed">
      <origin xyz="-0.04812 0 0.04" rpy="0 -1.5708 0"/>
      <parent link="Untitled.059"/>
      <child link="Untitled.060"/>
    </joint>

    <joint name="Untitled.061" type="fixed">
      <origin xyz="-0.04 0 0.05125" rpy="0 1.5708 0"/>
      <parent link="Untitled.060"/>
      <child link="Untitled.061"/>
    </joint>

    <joint name="Untitled.062" type="fixed">
      <origin xyz="0 0 0.0194" rpy="0 -3.14159 0"/>
      <parent link="Untitled.061"/>
      <child link="Untitled.062"/>
    </joint>

    <joint name="Untitled.063" type="fixed">
      <origin xyz="0 -0.00625 0.13" rpy="0 3.14159 0"/>
      <parent link="Untitled.062"/>
      <child link="Untitled.063"/>
    </joint>

    <joint name="Untitled.064" type="fixed">
      <origin xyz="0.05 0 -0.04" rpy="0 -1.5708 0"/>
      <parent link="Untitled.063"/>
      <child link="Untitled.064"/>
    </joint>

    <joint name="Untitled.065" type="fixed">
      <origin xyz="0.04 0 -0.05012" rpy="0 1.5708 0"/>
      <parent link="Untitled.064"/>
      <child link="Untitled.065"/>
    </joint>

    <joint name="Untitled.073" type="fixed">
      <origin xyz="0.025 -0.02 0.0476" rpy="1.5708 0 -1.5708"/>
      <parent link="Untitled.009"/>
      <child link="Untitled.073"/>
    </joint>

    <joint name="Untitled.074" type="fixed">
      <origin xyz="0.03 0.03 0.0476" rpy="1.5708 0 0"/>
      <parent link="Untitled.009"/>
      <child link="Untitled.074"/>
    </joint>

    <joint name="Untitled.075" type="fixed">
      <origin xyz="-0.025 0.025 0.06" rpy="1.5708 0 1.5708"/>
      <parent link="Untitled.004"/>
      <child link="Untitled.075"/>
    </joint>

    <joint name="Untitled.076" type="fixed">
      <origin xyz="-0.025 -0.025 0.06" rpy="1.5708 0 -3.14159"/>
      <parent link="Untitled.004"/>
      <child link="Untitled.076"/>
    </joint>

    <joint name="Untitled.077" type="fixed">
      <origin xyz="0.025 -0.025 0.06" rpy="1.5708 0 -1.5708"/>
      <parent link="Untitled.004"/>
      <child link="Untitled.077"/>
    </joint>

    <joint name="Untitled.078" type="fixed">
      <origin xyz="0.03 0.025 0.06" rpy="1.5708 0 0"/>
      <parent link="Untitled.004"/>
      <child link="Untitled.078"/>
    </joint>

    <joint name="Untitled.079" type="fixed">
      <origin xyz="-0.11388 1.2511 0.10827" rpy="1.5708 0 1.5708"/>
      <parent link="Untitled.048"/>
      <child link="Untitled.079"/>
    </joint>

    <joint name="Untitled.080" type="fixed">
      <origin xyz="0.025 0 0.03113" rpy="0 0 0"/>
      <parent link="Untitled.029"/>
      <child link="Untitled.080"/>
    </joint>

    <joint name="Untitled.081" type="fixed">
      <origin xyz="0.02762 -0.0014 0.03161" rpy="0 0 0"/>
      <parent link="Untitled.032"/>
      <child link="Untitled.081"/>
    </joint>

    <joint name="Untitled.082" type="fixed">
      <origin xyz="0 -0.035 0.11744" rpy="0 0 0"/>
      <parent link="Untitled.027"/>
      <child link="Untitled.082"/>
    </joint>

    <joint name="Untitled.083" type="fixed">
      <origin xyz="0 -0.035 0.12198" rpy="0 0 0"/>
      <parent link="Untitled.030"/>
      <child link="Untitled.083"/>
    </joint>

    <joint name="Untitled.084" type="fixed">
      <origin xyz="0 -0.035 0.11828" rpy="0 0 0"/>
      <parent link="Untitled.033"/>
      <child link="Untitled.084"/>
    </joint>

    <joint name="Untitled.085" type="fixed">
      <origin xyz="0.05 0 -0.04" rpy="0 0 3.14159"/>
      <parent link="Untitled.003"/>
      <child link="Untitled.085"/>
    </joint>

    <joint name="Untitled.086" type="fixed">
      <origin xyz="0.03 0 -0.04" rpy="0 0 0"/>
      <parent link="Untitled.002"/>
      <child link="Untitled.086"/>
    </joint>

    <joint name="Untitled.087" type="fixed">
      <origin xyz="-0.05 0 -0.04" rpy="0 0 0"/>
      <parent link="Untitled"/>
      <child link="Untitled.087"/>
    </joint>

    <joint name="Untitled.088" type="fixed">
      <origin xyz="-0.03 0 -0.04" rpy="0 0 3.14159"/>
      <parent link="Untitled.001"/>
      <child link="Untitled.088"/>
    </joint>

    <joint name="Untitled.089" type="fixed">
      <origin xyz="0.04 0.0124 -0.035" rpy="0 0 3.14159"/>
      <parent link="Untitled.016"/>
      <child link="Untitled.089"/>
    </joint>

    <joint name="Untitled.090" type="fixed">
      <origin xyz="0.02 -0.0124 -0.045" rpy="0 0 0"/>
      <parent link="Untitled.014"/>
      <child link="Untitled.090"/>
    </joint>

    <joint name="Untitled.091" type="fixed">
      <origin xyz="-0.05 -0.0124 -0.045" rpy="0 0 0"/>
      <parent link="Untitled.012"/>
      <child link="Untitled.091"/>
    </joint>

    <joint name="Untitled.092" type="fixed">
      <origin xyz="-0.03 0.0124 -0.035" rpy="0 0 3.14159"/>
      <parent link="Untitled.010"/>
      <child link="Untitled.092"/>
    </joint>

    <joint name="Untitled.093" type="fixed">
      <origin xyz="0.01 -0.01 0.00115" rpy="0 0 0"/>
      <parent link="Untitled.036"/>
      <child link="Untitled.093"/>
    </joint>

    <joint name="Untitled.094" type="fixed">
      <origin xyz="-0.03 -0.04997 -0.03088" rpy="0 1.5708 0"/>
      <parent link="Untitled.036"/>
      <child link="Untitled.094"/>
    </joint>

    <joint name="Untitled.095" type="fixed">
      <origin xyz="-0.02003 -0.0025 0.03571" rpy="0 0 0"/>
      <parent link="Untitled.094"/>
      <child link="Untitled.095"/>
    </joint>

    <joint name="Untitled.096" type="fixed">
      <origin xyz="0 0.05168 0.0085" rpy="0 1.5708 0"/>
      <parent link="Untitled.038"/>
      <child link="Untitled.096"/>
    </joint>

    <material name="Material.001">
      <color rgba="0 0 0 1.0"/>
    </material>

    <material name="Material.002">
      <color rgba="0 0 0 1.0"/>
    </material>

    <material name="Material.003">
      <color rgba="0 0 0 1.0"/>
    </material>

    <material name="Material.004">
      <color rgba="0 0 0 1.0"/>
    </material>

    <material name="Material.005">
      <color rgba="0.64 0.64 0.64 1.0"/>
    </material>

    <material name="Material.006">
      <color rgba="0.08 0.08 0.08 1.0"/>
    </material>

    <material name="Material.007">
      <color rgba="0.64 0.64 0.64 1.0"/>
    </material>

    <material name="Material.008">
      <color rgba="0 0 0 1.0"/>
    </material>

    <material name="Material.009">
      <color rgba="0 0 0 1.0"/>
    </material>

    <material name="Material.010">
      <color rgba="0 0 0 1.0"/>
    </material>

    <material name="Material.011">
      <color rgba="0.64 0.64 0.64 1.0"/>
    </material>

    <material name="Material.012">
      <color rgba="0.16 0.16 0.16 1.0"/>
    </material>

    <material name="Material.013">
      <color rgba="0.16 0.16 0.16 1.0"/>
    </material>

    <material name="Material.014">
      <color rgba="0.64 0.64 0.64 1.0"/>
    </material>

    <material name="Material.015">
      <color rgba="0.16 0.16 0.16 1.0"/>
    </material>

    <material name="Material.016">
      <color rgba="0.16 0.16 0.16 1.0"/>
    </material>

    <material name="Material.017">
      <color rgba="0.64 0.64 0.64 1.0"/>
    </material>

    <material name="Material.018">
      <color rgba="0.16 0.16 0.16 1.0"/>
    </material>

    <material name="Material.019">
      <color rgba="0.16 0.16 0.16 1.0"/>
    </material>

    <material name="Material.020">
      <color rgba="0.64 0.64 0.64 1.0"/>
    </material>

    <material name="Material.025">
      <color rgba="0.64 0.64 0.64 1.0"/>
    </material>

    <material name="Material.026">
      <color rgba="0.09 0.09 0.09 1.0"/>
    </material>

    <material name="Material.027">
      <color rgba="0.76 0.76 0.76 1.0"/>
    </material>

    <material name="Material.029">
      <color rgba="0.64 0.64 0.64 1.0"/>
    </material>

    <material name="Material.030">
      <color rgba="0.64 0.64 0.64 1.0"/>
    </material>

    <material name="Material.031">
      <color rgba="0.64 0.64 0.64 1.0"/>
    </material>

    <material name="Material.032">
      <color rgba="0 0 0 1.0"/>
    </material>

    <material name="Material.033">
      <color rgba="0.16 0.16 0.16 1.0"/>
    </material>

    <material name="Material.034">
      <color rgba="0.48 0.48 0.48 1.0"/>
    </material>

    <material name="Material.035">
      <color rgba="0.64 0.64 0.64 1.0"/>
    </material>

    <material name="Material.036">
      <color rgba="0.4 0.4 0.4 1.0"/>
    </material>

    <material name="Material.037">
      <color rgba="0 0 0 1.0"/>
    </material>

    <material name="Material.038">
      <color rgba="0.72 0.72 0.72 1.0"/>
    </material>

    <material name="Material.039">
      <color rgba="0.64 0.64 0.64 1.0"/>
    </material>

    <material name="Material.040">
      <color rgba="0.56 0.56 0.56 1.0"/>
    </material>

    <material name="Material.041">
      <color rgba="0.64 0.64 0.64 1.0"/>
    </material>

    <material name="Material.042">
      <color rgba="0.64 0.64 0.64 1.0"/>
    </material>

    <material name="Material.048">
      <color rgba="0.64 0.64 0.64 1.0"/>
    </material>

    <material name="Material.049">
      <color rgba="0.64 0.64 0.64 1.0"/>
    </material>

    <material name="Material.050">
      <color rgba="0.16 0.16 0.16 1.0"/>
    </material>

    <material name="Material.051">
      <color rgba="0.16 0.16 0.16 1.0"/>
    </material>

    <material name="Material.052">
      <color rgba="0.64 0.64 0.64 1.0"/>
    </material>

  </robot>
